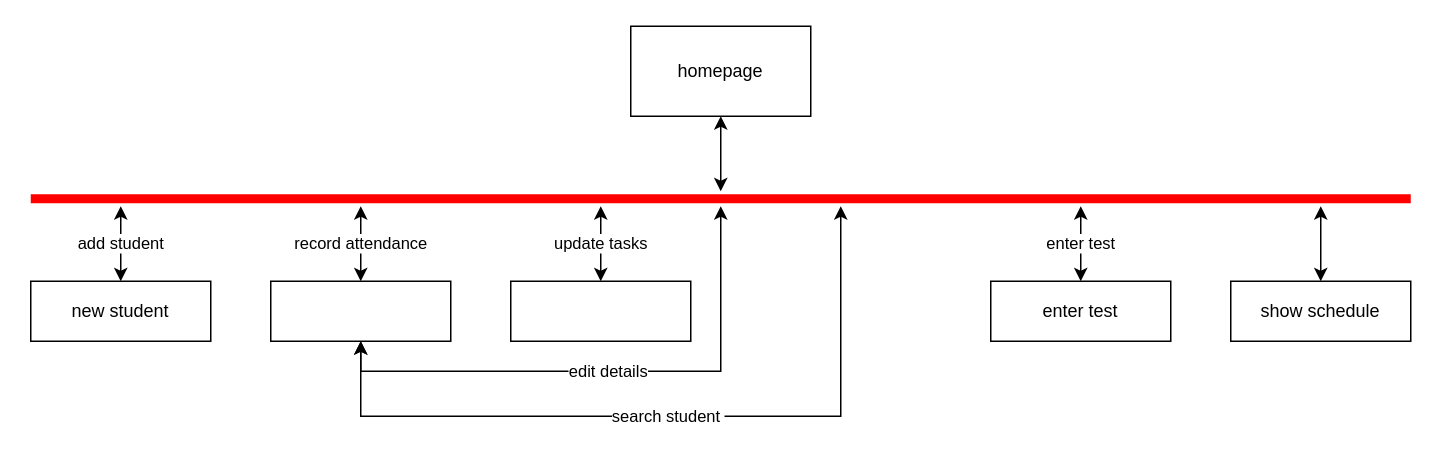
This 1440x456 diagram has some shape labels left out. Here are the shapes that lost their labels. From the top down, the centre of each, then its label:
the point at 360,310: student names table
the point at 600,310: activities (parts, topics tests)
